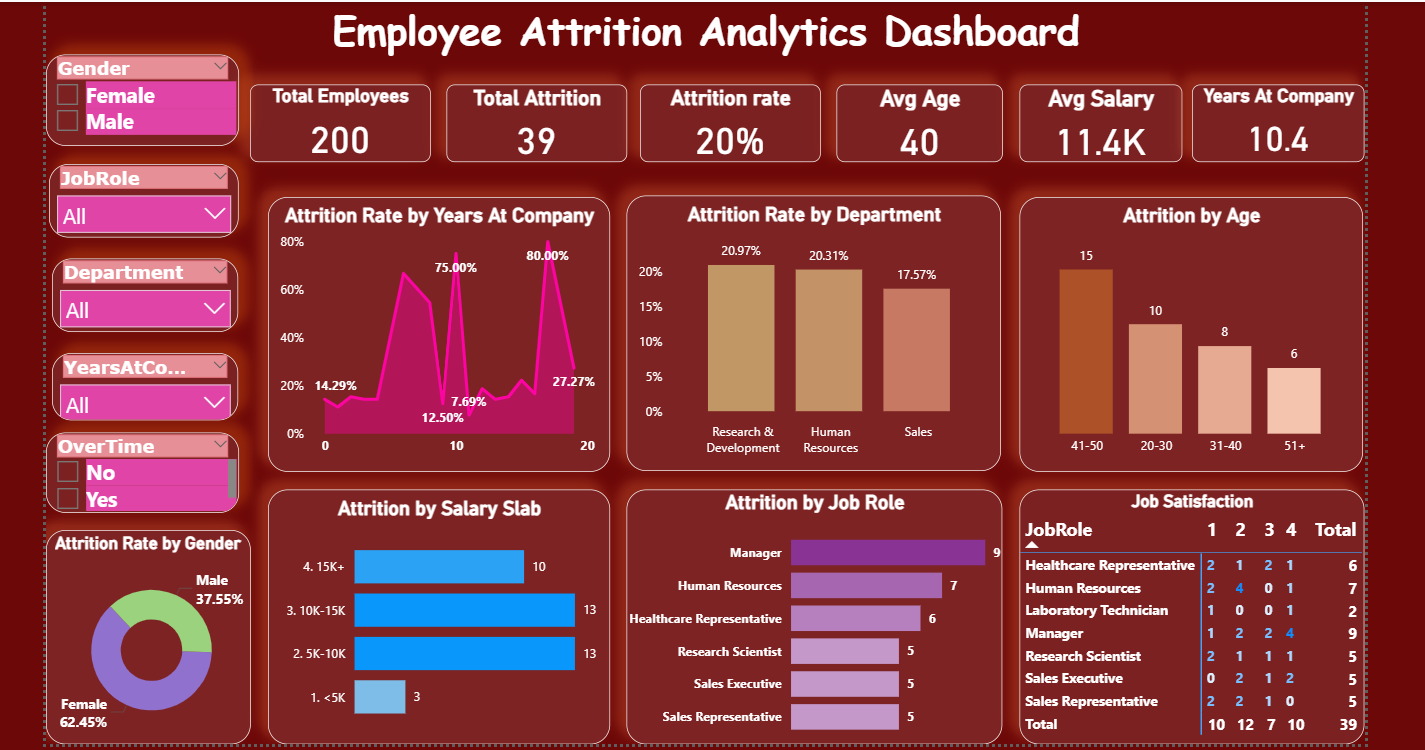

What the dashboard file says about the page in this screenshot:
{"tool":"powerbi","page":{"name":"Page 1","canvas":[1280,720],"ordinal":0},"visuals":[{"type":"card","title":"Total Employees","fields":{"Values":["Count(hr_analytics employees.EmployeeID)"]},"box":[198.1,80.8,175,75],"z":0},{"type":"card","title":" Total Attrition","fields":{"Values":["hr_analytics employees.Attrition Count"]},"box":[388.5,80.8,175,75],"z":1000},{"type":"card","title":"Attrition rate","fields":{"Values":["hr_analytics employees.Attrition Rate"]},"box":[576.9,80.8,175,75],"z":2000},{"type":"card","title":"Avg Age","fields":{"Values":["Avg(hr_analytics employees.Age)"]},"box":[767.3,80.8,161.5,75],"z":3000},{"type":"card","title":"Avg Salary","fields":{"Values":["Avg(hr_analytics employees.MonthlyIncome)"]},"box":[944.2,80.8,157.7,75],"z":4000},{"type":"card","title":"Years At Company","fields":{"Values":["Avg(hr_analytics employees.YearsAtCompany)"]},"box":[1111.5,80.8,167.3,75],"z":5000},{"type":"clusteredColumnChart","title":"Attrition Rate by Department","fields":{"Category":["hr_analytics employees.Department"],"Y":["hr_analytics employees.Attrition Rate"]},"box":[563.5,188.5,363.5,267.3],"z":6000},{"type":"columnChart","title":"Attrition by Age","fields":{"Category":["hr_analytics employees.Age_Group"],"Y":["Sum(hr_analytics employees.Attrition_Flag)"]},"box":[944.4,188.9,333.3,266.7],"z":7000},{"type":"pivotTable","title":"Job Satisfaction","fields":{"Rows":["hr_analytics employees.JobRole"],"Columns":["hr_analytics employees.JobSatisfaction"],"Values":["Sum(hr_analytics employees.Attrition_Flag)"]},"box":[944.9,472.4,334.5,247.6],"z":8000},{"type":"clusteredBarChart","title":"Attrition by Salary Slab","fields":{"Y":["Sum(hr_analytics employees.Attrition_Flag)","select"],"Category":["hr_analytics employees.Salary_Slab_New"]},"box":[215.9,473,331.7,247.6],"z":9000},{"type":"clusteredBarChart","title":"Attrition by Job Role","fields":{"Y":["Sum(hr_analytics employees.Attrition_Flag)"],"Category":["hr_analytics employees.JobRole"]},"box":[563.2,472.4,364.7,247.6],"z":10000},{"type":"areaChart","title":"Attrition Rate by Years At Company","fields":{"Category":["hr_analytics employees.YearsAtCompany"],"Y":["hr_analytics employees.Attrition Rate"]},"box":[215.9,188.9,331.7,266.7],"z":11000},{"type":"donutChart","title":"Attrition Rate by Gender","fields":{"Category":["hr_analytics employees.Gender"],"Y":["hr_analytics employees.Attrition Rate"]},"box":[0,512.1,198.4,207.9],"z":12000},{"type":"slicer","fields":{"Values":["hr_analytics employees.Department"]},"box":[6.3,249.2,181,71.4],"z":13000},{"type":"slicer","fields":{"Values":["hr_analytics employees.OverTime"]},"box":[0,417.5,187.3,77.8],"z":14000},{"type":"slicer","title":"Years At Company","fields":{"Values":["hr_analytics employees.YearsAtCompany"]},"box":[6.3,341.3,181,65.1],"z":15000},{"type":"textbox","box":[0,0,1280.8,76.9],"z":16000},{"type":"slicer","fields":{"Values":["hr_analytics employees.JobRole"]},"box":[3.2,157.1,184.1,71.4],"z":17000},{"type":"slicer","fields":{"Values":["hr_analytics employees.Gender"]},"box":[0,50.8,187.3,88.9],"z":18000}]}

Visuals, with their boxes in screenshot pixels (x1, y1, x2, y2):
"Total Employees" card: (248, 83, 428, 160)
" Total Attrition" card: (443, 83, 623, 160)
"Attrition rate" card: (637, 83, 817, 160)
"Avg Age" card: (832, 83, 998, 160)
"Avg Salary" card: (1014, 83, 1176, 160)
"Years At Company" card: (1186, 83, 1358, 160)
"Attrition Rate by Department" clusteredColumnChart: (623, 194, 996, 468)
"Attrition by Age" columnChart: (1014, 194, 1356, 468)
"Job Satisfaction" pivotTable: (1015, 485, 1358, 739)
"Attrition by Salary Slab" clusteredBarChart: (266, 486, 607, 740)
"Attrition by Job Role" clusteredBarChart: (623, 485, 997, 739)
"Attrition Rate by Years At Company" areaChart: (266, 194, 607, 468)
"Attrition Rate by Gender" donutChart: (45, 526, 248, 739)
slicer - hr_analytics employees.Department: (51, 256, 237, 329)
slicer - hr_analytics employees.OverTime: (45, 429, 237, 509)
"Years At Company" slicer: (51, 350, 237, 417)
textbox: (45, 0, 1360, 79)
slicer - hr_analytics employees.JobRole: (48, 161, 237, 235)
slicer - hr_analytics employees.Gender: (45, 52, 237, 143)
